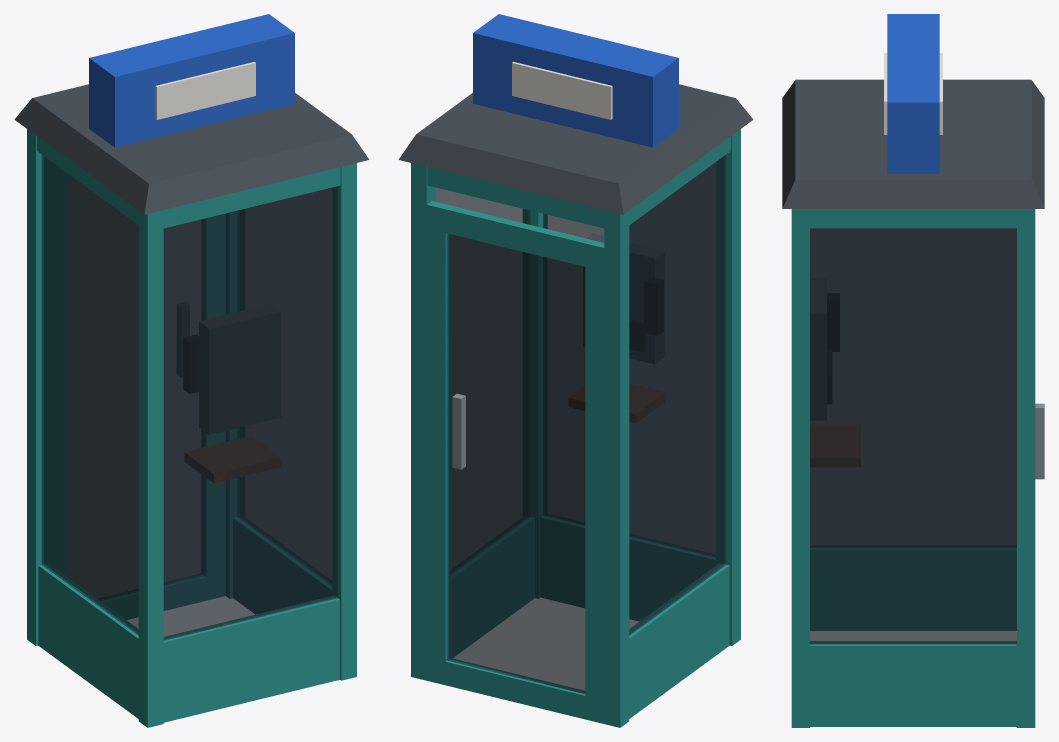
Rendered from phone_booth.glb.
3 views of the same model, side by side, from view 1: azimuth 30°, elevation 25°; view 2: azimuth 150°, elevation 25°; view 3: azimuth 270°, elevation 25° (orthographic).
Parts seen in each view (by area): view 1: Body; view 2: Body; view 3: Body.
Boxes of the visible parts, <box> form: Body: <box>14,14,369,727</box>; Body: <box>398,14,753,727</box>; Body: <box>782,14,1044,727</box>.
Bounding box in the file's own units: 1 × 2.6 × 1.
